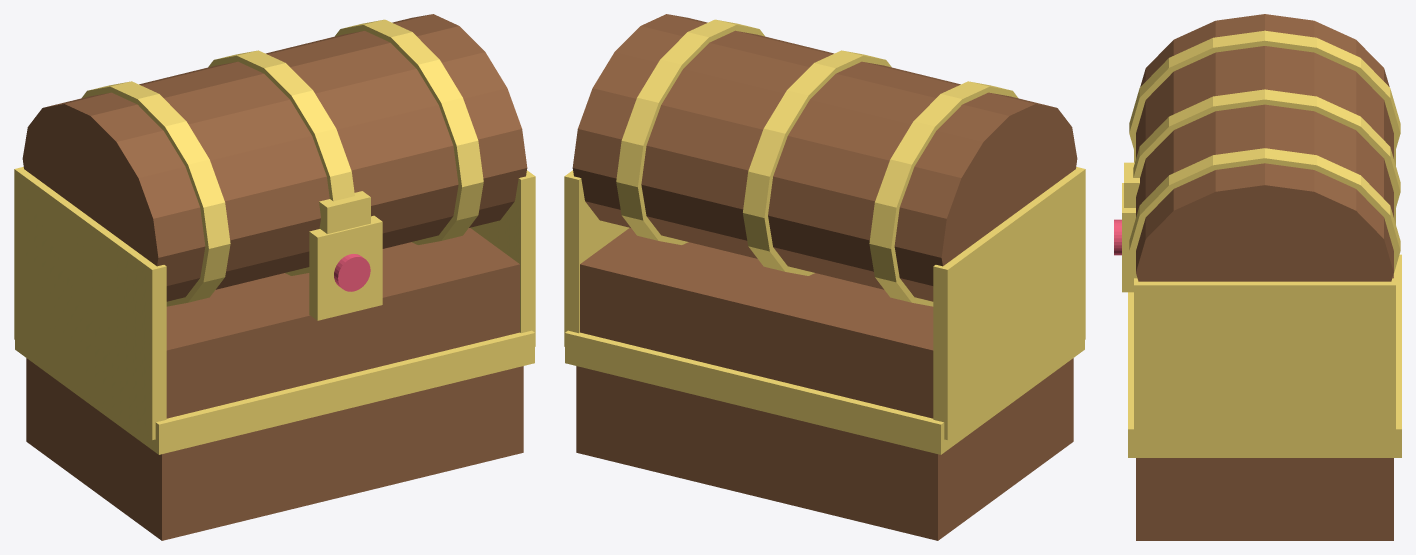
Rendered from treasure_chest.glb.
3 renders of one model, left to right at view 1: azimuth 30°, elevation 25°; view 2: azimuth 150°, elevation 25°; view 3: azimuth 270°, elevation 25°, orthographic. The views are drawn at different scales.
Visible parts, largest first — view 1: ChestBase, ChestLidMesh, Bracket_-0.51, BaseTrim, LidBand_0.35, LidBand_-0.35, LockPlate, LidBand_0.0, Bracket_0.51, LockLatch, LockGem; view 2: ChestBase, ChestLidMesh, Bracket_-0.51, BaseTrim, LidBand_0.0, LidBand_0.35, LidBand_-0.35, Bracket_0.51; view 3: ChestLidMesh, Bracket_0.51, ChestBase, BaseTrim, LidBand_0.35, LidBand_-0.35, LidBand_0.0, LockPlate, LockLatch.
Part boxes in pixels (left/top/right/bottom): ChestBase: left=26, top=228, right=523, bottom=540; ChestLidMesh: left=22, top=14, right=527, bottom=301; Bracket_-0.51: left=14, top=167, right=166, bottom=440; BaseTrim: left=15, top=330, right=534, bottom=454; LidBand_0.35: left=335, top=19, right=483, bottom=244; LidBand_-0.35: left=82, top=81, right=230, bottom=306; LockPlate: left=309, top=215, right=382, bottom=320; LidBand_0.0: left=208, top=50, right=354, bottom=275; Bracket_0.51: left=470, top=170, right=535, bottom=346; LockLatch: left=319, top=191, right=370, bottom=233; LockGem: left=334, top=254, right=370, bottom=291; ChestBase: left=576, top=228, right=1073, bottom=540; ChestLidMesh: left=572, top=14, right=1077, bottom=301; Bracket_-0.51: left=933, top=167, right=1085, bottom=440; BaseTrim: left=565, top=330, right=1084, bottom=454; LidBand_0.0: left=743, top=50, right=891, bottom=275; LidBand_0.35: left=616, top=19, right=764, bottom=244; LidBand_-0.35: left=869, top=81, right=1017, bottom=306; Bracket_0.51: left=564, top=170, right=629, bottom=346; ChestLidMesh: left=1136, top=14, right=1393, bottom=281; Bracket_0.51: left=1134, top=278, right=1395, bottom=446; ChestBase: left=1136, top=274, right=1393, bottom=540; BaseTrim: left=1128, top=254, right=1401, bottom=457; LidBand_0.35: left=1129, top=148, right=1400, bottom=277; LidBand_-0.35: left=1129, top=30, right=1400, bottom=155; LidBand_0.0: left=1133, top=89, right=1400, bottom=213; LockPlate: left=1122, top=183, right=1136, bottom=292; LockLatch: left=1124, top=162, right=1139, bottom=207.
Bounding box in the file's own units: 1.06 × 1.01 × 0.725.
